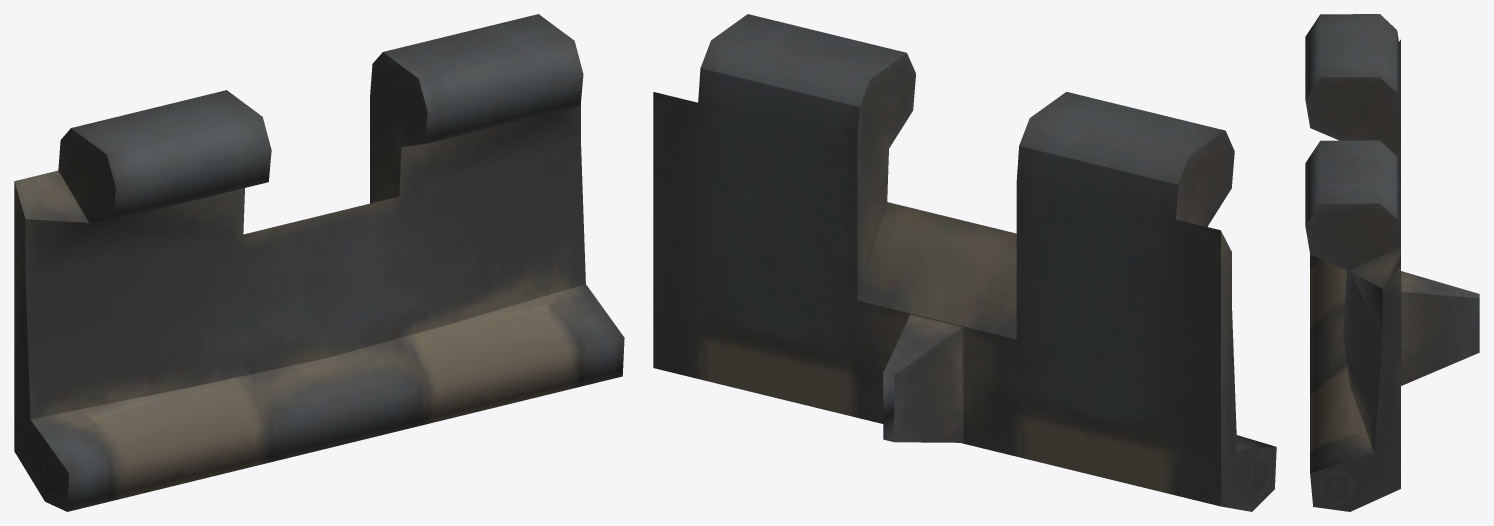
File: Gtractor_Krupp_segment_track.glb
3 views of the same model, side by side, from view 1: azimuth 30°, elevation 25°; view 2: azimuth 150°, elevation 25°; view 3: azimuth 270°, elevation 25° (orthographic). The views are drawn at different scales.
Visible parts, largest first — view 1: set_0_group_0; view 2: set_0_group_0; view 3: set_0_group_0.
Boxes of the visible parts, x1,y1,x2,y2 form: set_0_group_0: [14, 14, 624, 511]; set_0_group_0: [653, 14, 1276, 511]; set_0_group_0: [1305, 14, 1479, 511].
Size of the model in its own units: 0.382 by 0.2299 by 0.1249.
Materials: 1 (1 with a texture image).
